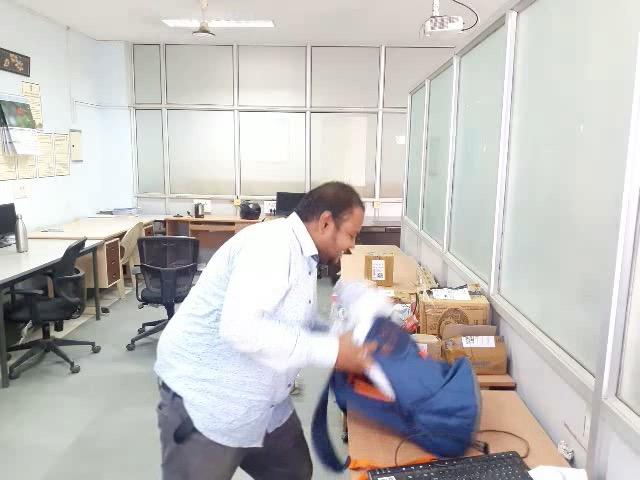shoplifting: (130, 164, 489, 464)
